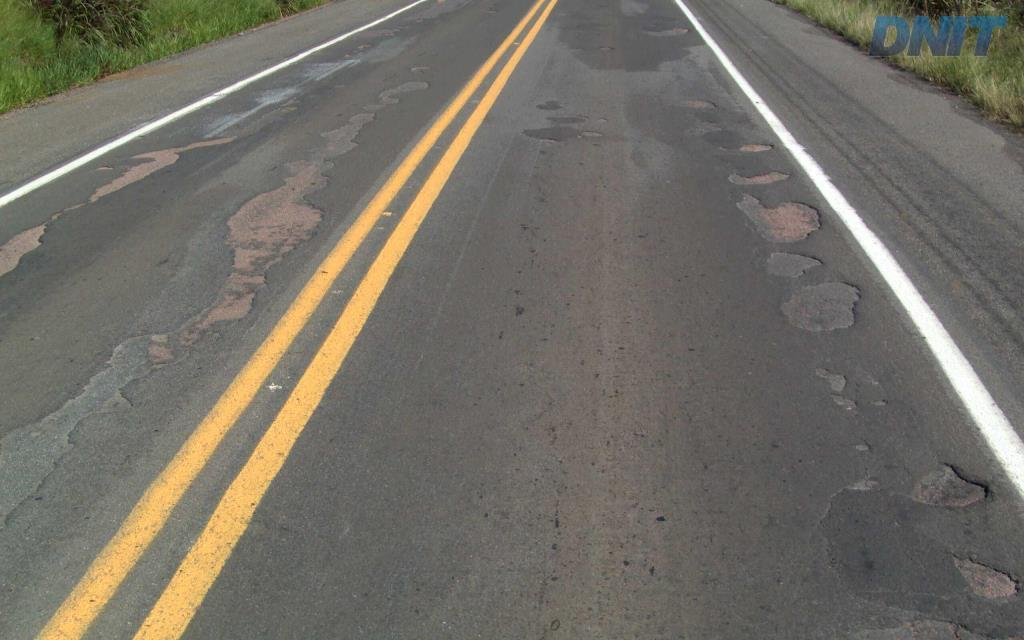pothole: (899, 454, 1003, 512), (934, 548, 1022, 607), (728, 189, 824, 243), (770, 278, 862, 331), (756, 247, 825, 283), (811, 364, 858, 410), (722, 168, 795, 186), (639, 24, 693, 43), (671, 94, 722, 109), (715, 140, 777, 152), (572, 127, 608, 141), (850, 438, 874, 456), (869, 396, 890, 409), (598, 44, 617, 53)
